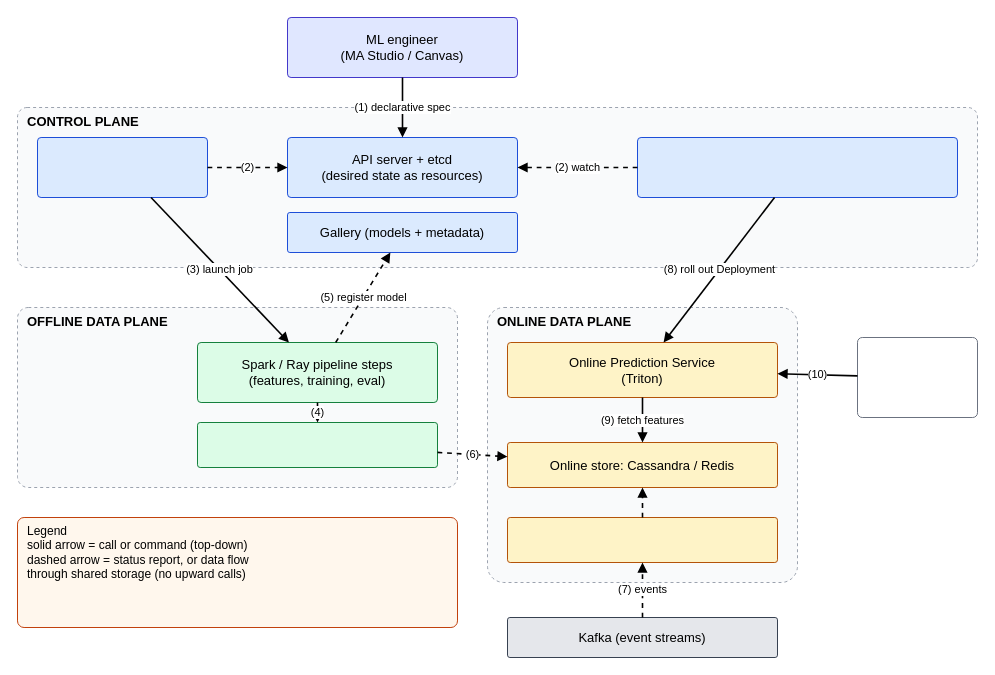
Some shapes in this 995 by 675 pixel diagram are drawn without their labels. Each missing label, with the centre of its shape:
Controllers / operators (reconcile loop, e.g. Deployment): the point at 797,167
Job federation controller: the point at 122,167
Offline store: Hive / HDFS: the point at 317,445
Streaming feature jobs: the point at 642,539
Uber product micro- services: the point at 917,377
